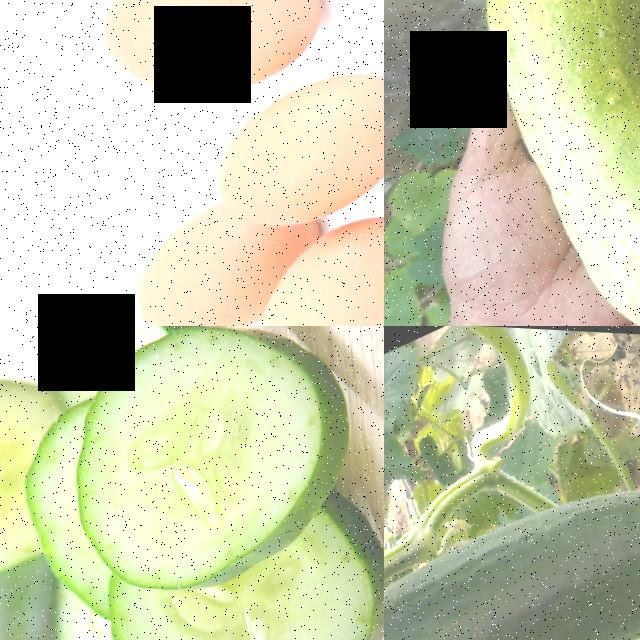cucumber: (18, 326, 384, 623), (413, 0, 640, 326), (384, 406, 640, 640), (101, 487, 384, 640), (0, 369, 142, 640)
egg_: (184, 29, 384, 260), (56, 0, 360, 149), (219, 174, 384, 326), (104, 191, 285, 326)
